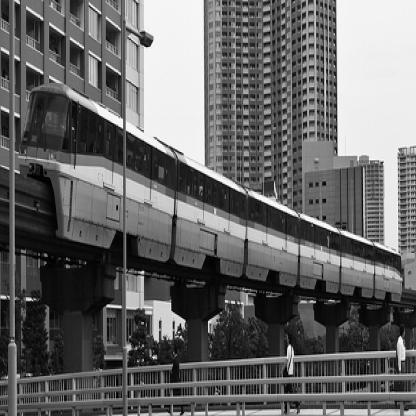handbag: (285, 346, 292, 373), (394, 381, 405, 392), (284, 372, 289, 377)
